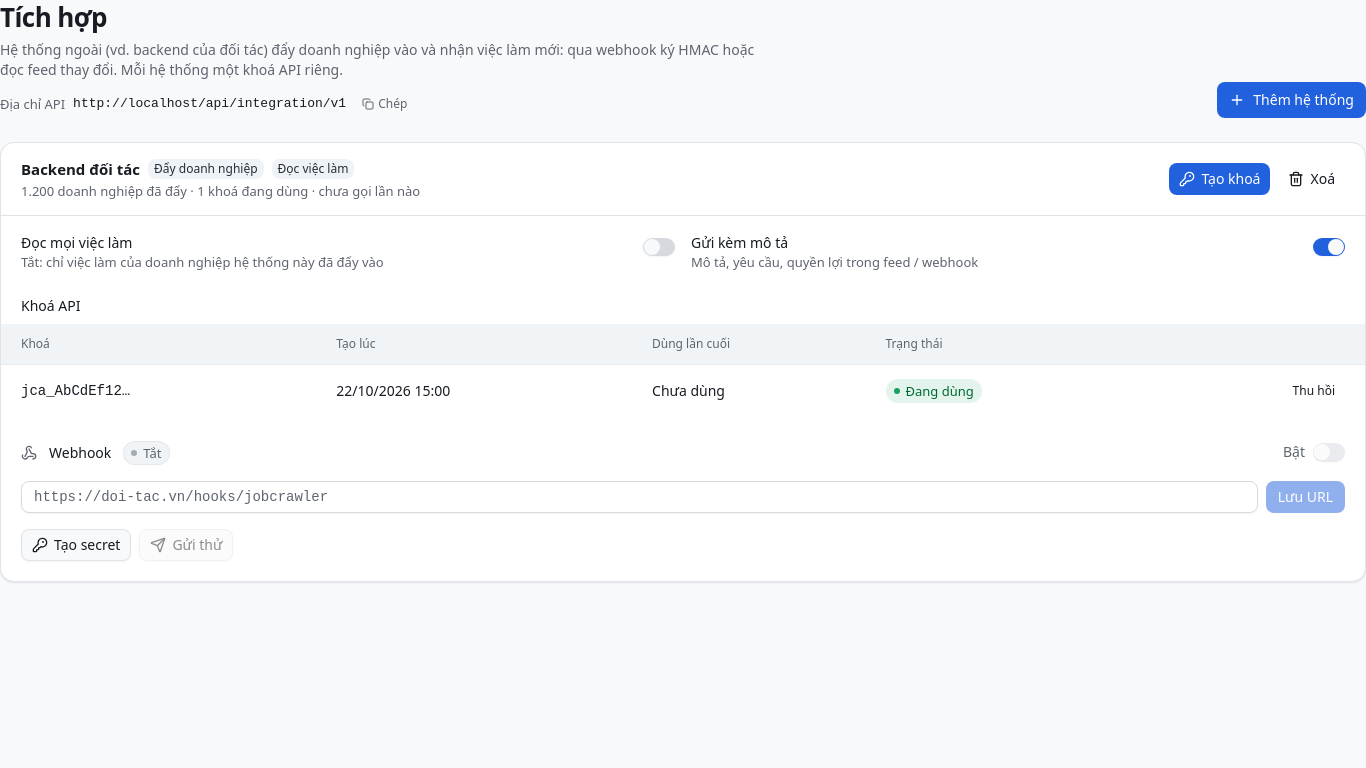
trang Tích hợp › liệt kê hệ thống, khoá; khoá mới chỉ hiện một lần; không có lệnh vận hành
Expected: the text "Backend đối tác" is shown, x1=21 y1=159 x2=140 y2=179
Expected: the text "jca_AbCdEf12…" is shown, x1=1 y1=364 x2=324 y2=416
Step 1. Click the button "Tạo khoá" → {"x": 1220, "y": 179}, box x1=1169 y1=163 x2=1270 y2=195
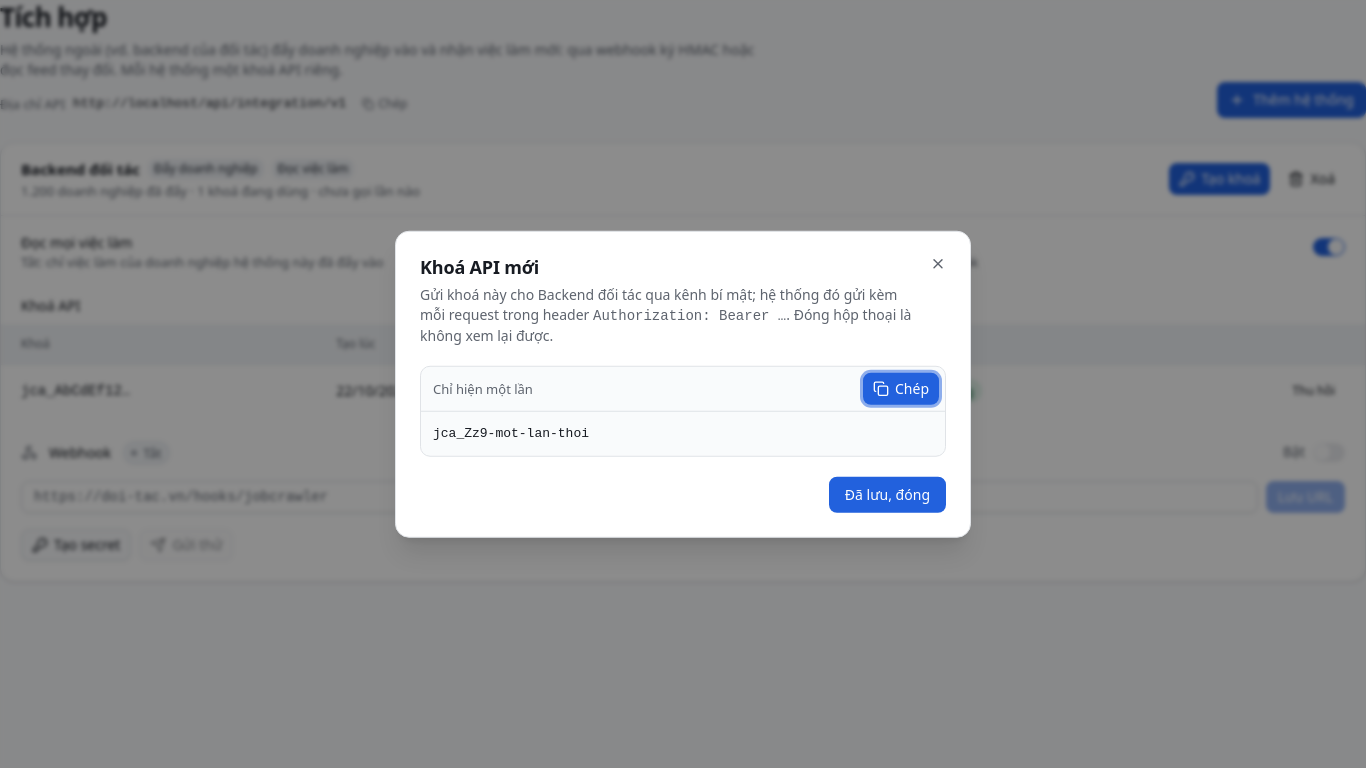
Now the text named "Khoá API mới" reads "jca_Zz9-mot-lan-thoi", box x1=433 y1=425 x2=589 y2=440
Step 2. Click the button "Đã lưu, đóng" → {"x": 887, "y": 494}, box x1=829 y1=476 x2=946 y2=512
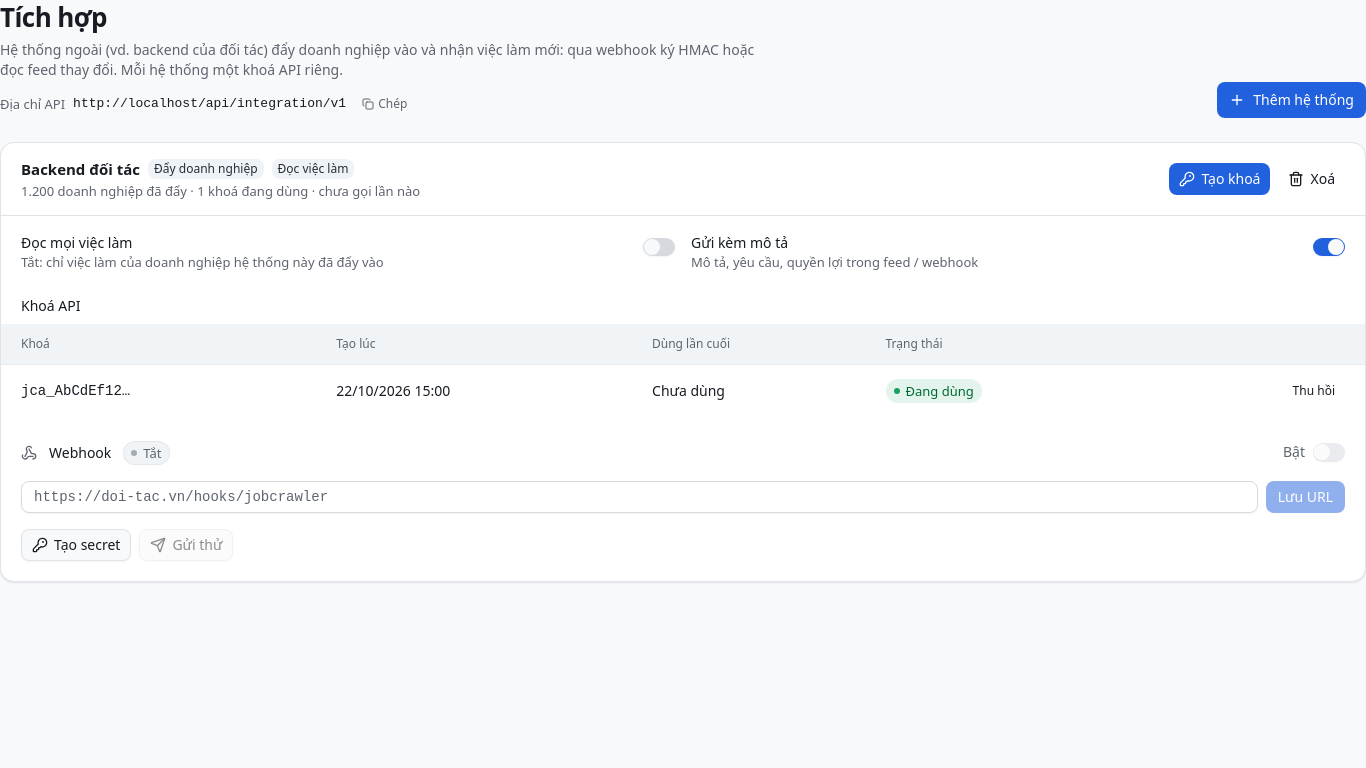
Now the text "jca_Zz9-mot-lan-thoi" is gone
